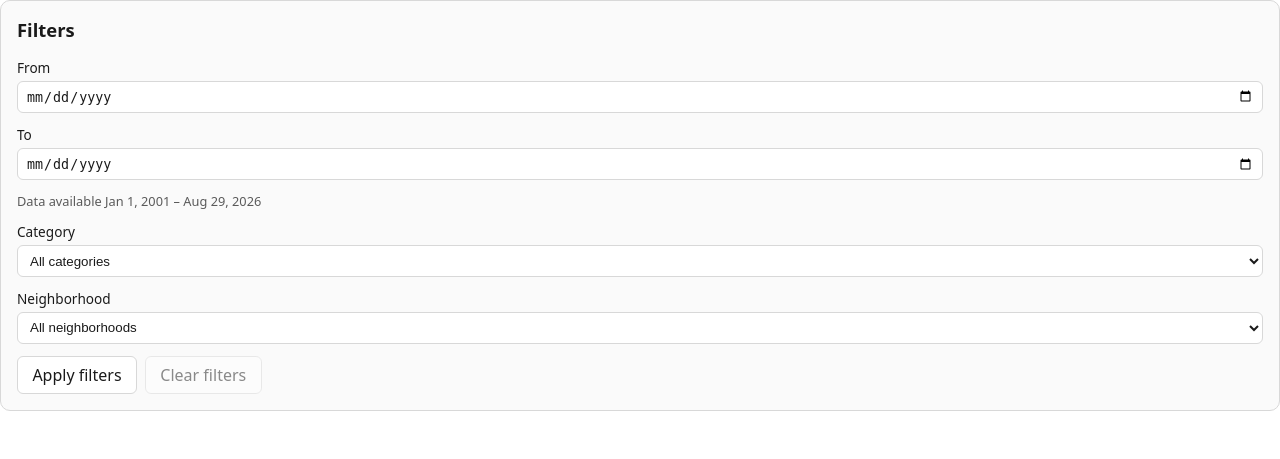
Scenario: FiltersPanel date validation › rejects From after To and does not apply
The image size is (1280, 459).
Type "2026-08-29" into the date field labelled "From". click: (640,97)
box: x1=17 y1=81 x2=1263 y2=113
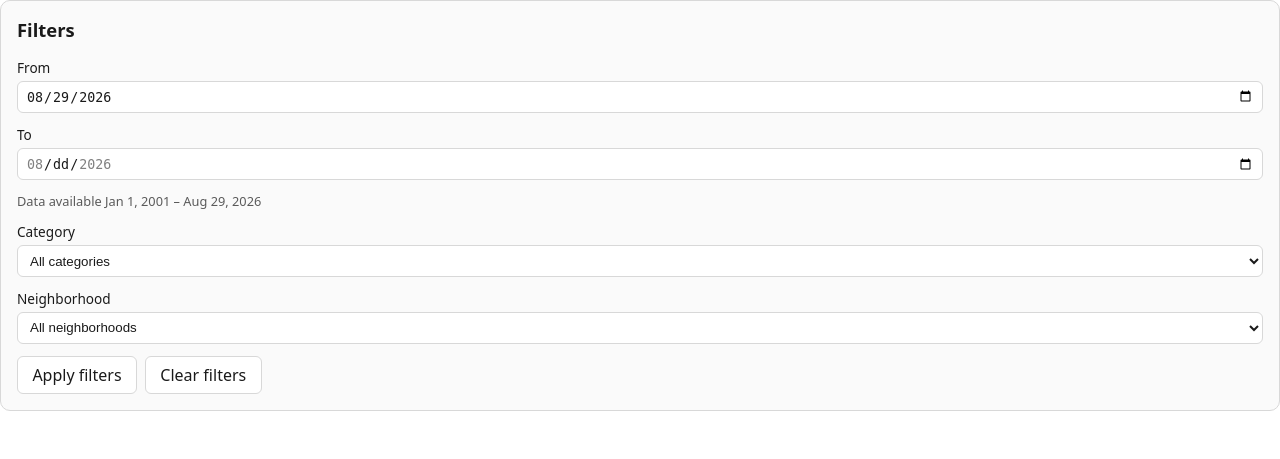
Type "2026-08-01" into the date field labelled "To". click: (640,164)
box: x1=17 y1=148 x2=1263 y2=180
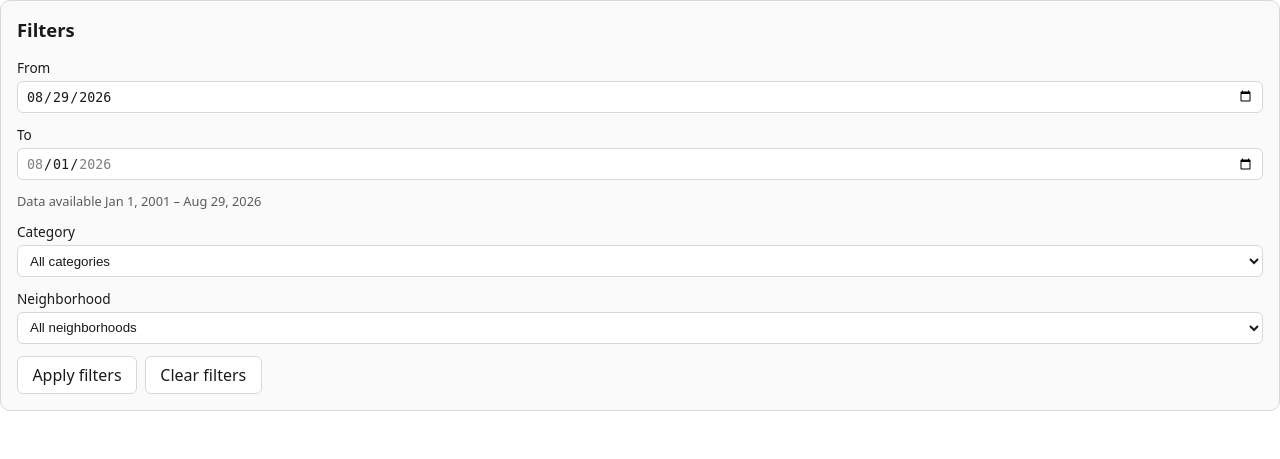
Click the button "Apply filters". click: (77,375)
box: x1=17 y1=356 x2=137 y2=394
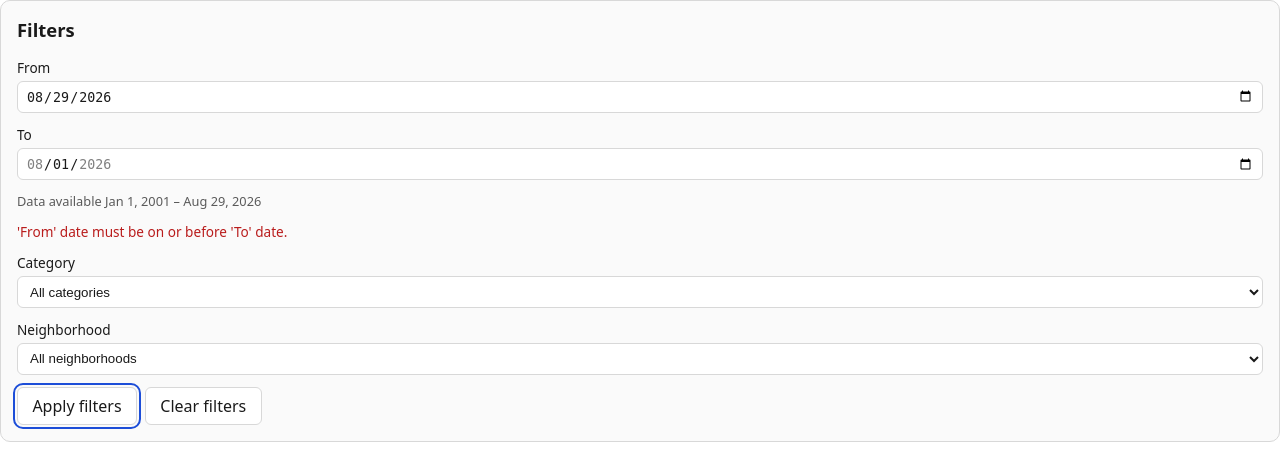
Expected: the message shows "'From' date must be on or before 'To'", x1=17 y1=222 x2=287 y2=241
